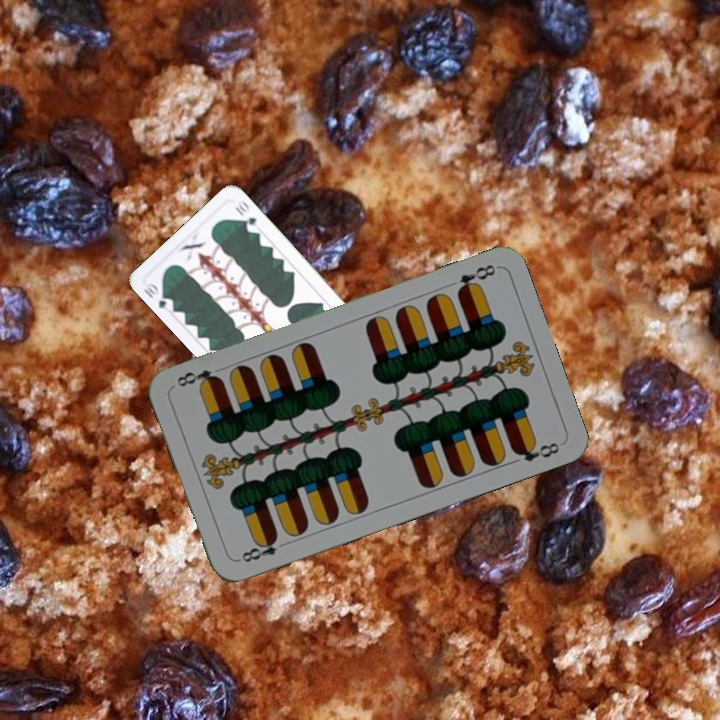E8: (234, 531, 291, 565), (452, 260, 499, 297)
G10: (139, 279, 176, 314)
